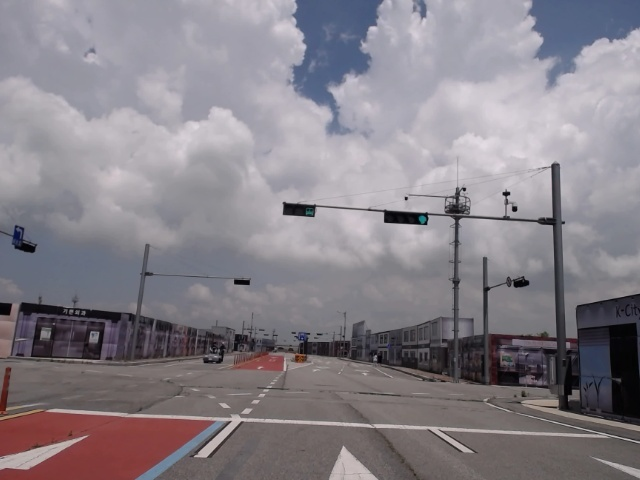straight_green_4: (386, 211, 428, 225)
